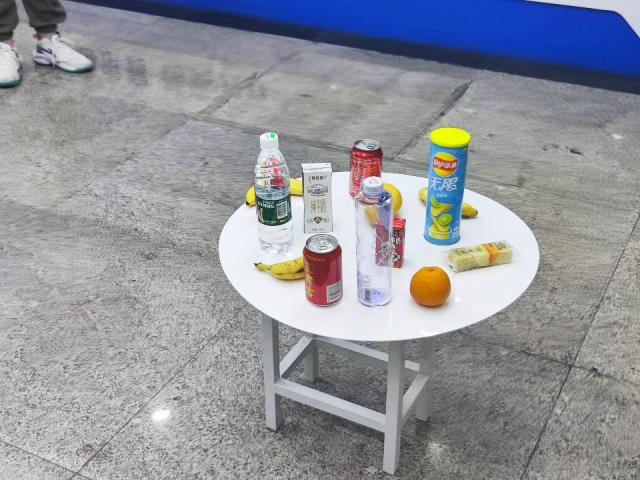Canned_drinks: (304, 232, 348, 310), (352, 135, 382, 178)
bottle: (358, 179, 393, 315), (258, 133, 296, 240)
cylinder: (423, 126, 469, 245)
